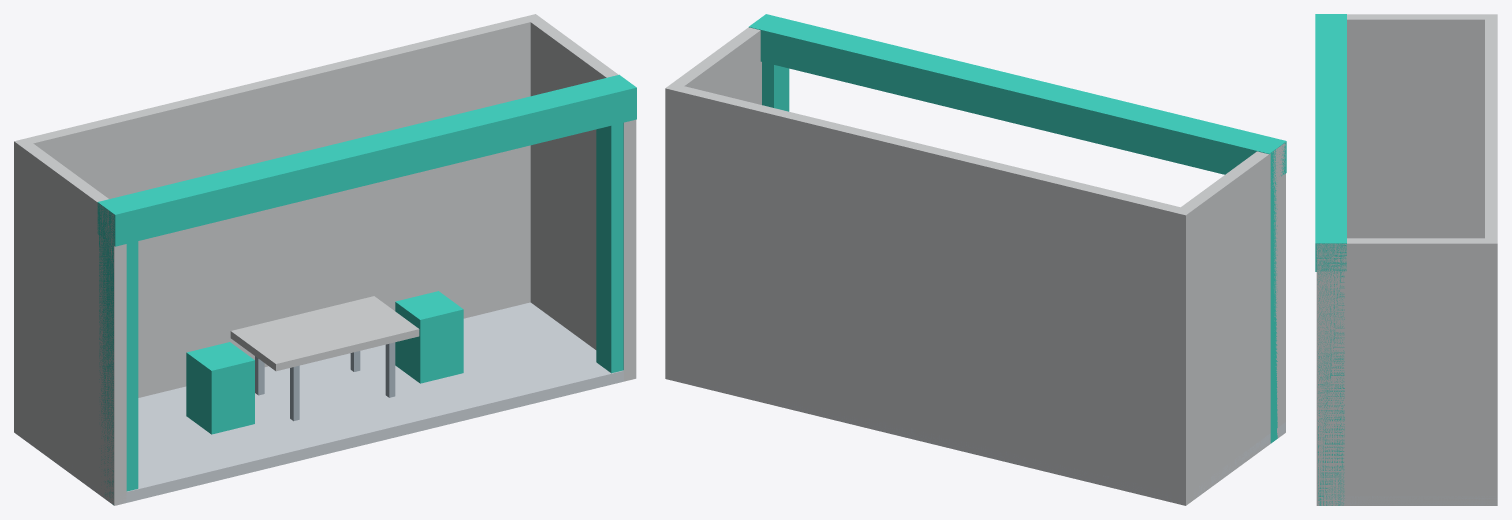
3 renders of one model, left to right at view 1: azimuth 30°, elevation 25°; view 2: azimuth 150°, elevation 25°; view 3: azimuth 270°, elevation 25°, orthographic. The views are drawn at different scales.
Parts seen in each view (by area): view 1: Exhibition Booth Concept; view 2: Exhibition Booth Concept; view 3: Exhibition Booth Concept.
Part boxes in pixels (bbox=[...]): Exhibition Booth Concept: bbox=[14, 14, 636, 505]; Exhibition Booth Concept: bbox=[665, 14, 1286, 505]; Exhibition Booth Concept: bbox=[1315, 14, 1497, 505].
Size of the model in its own units: 6 by 3.2 by 2.01.
